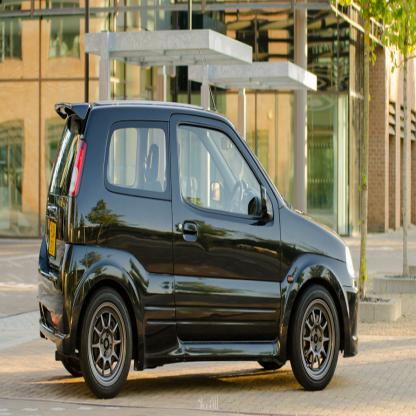Car: (38, 48, 359, 399)
